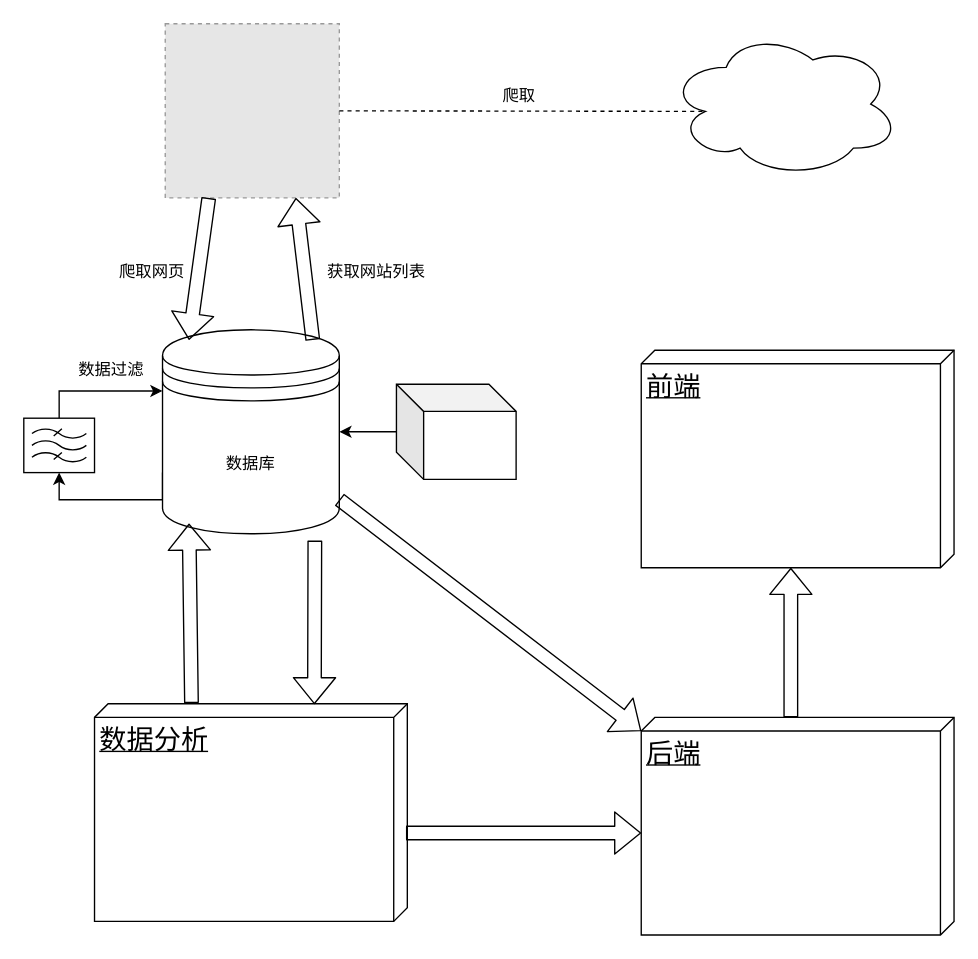
This 978x959 diagram has some shape labels left out. Grey dashed boxes stand in for pictures. The centre of each missing label's shape, as x and y in pixels:
manager: the point at 455,431
新闻网站: the point at 783,103
